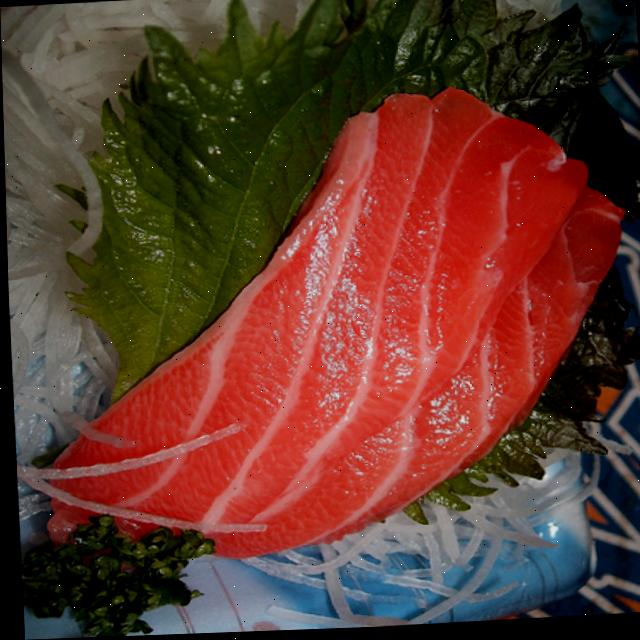刺身生食: (2, 48, 640, 608)
